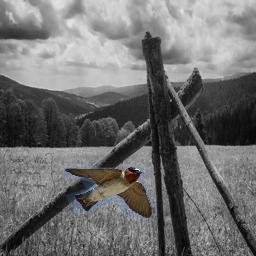Swallow: (63, 167, 153, 218)
